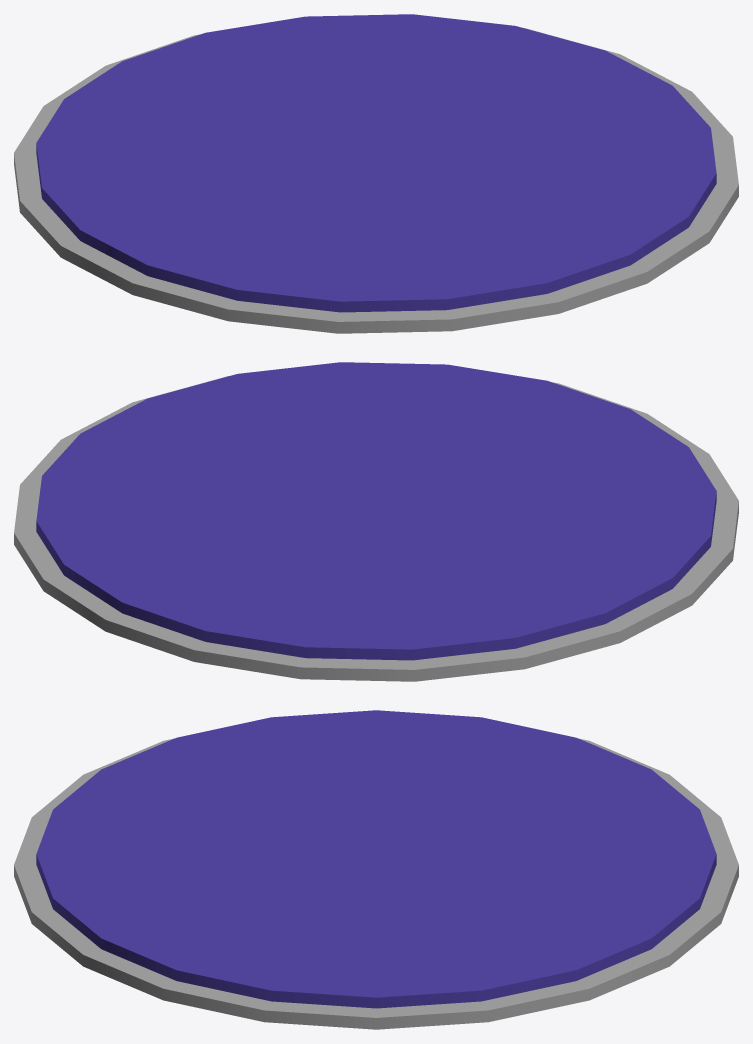
Rendered from diasthing.fbx.
3 views of the same model, one above another, from view 1: azimuth 30°, elevation 25°; view 2: azimuth 150°, elevation 25°; view 3: azimuth 270°, elevation 25° (orthographic).
Visible parts, largest first — view 1: pCylinder3, pCylinder2; view 2: pCylinder3, pCylinder2; view 3: pCylinder3, pCylinder2.
Boxes of the visible parts, x1,y1,x2,y2 form: pCylinder3: (36,14,716,312); pCylinder2: (14,28,738,333); pCylinder3: (36,362,716,660); pCylinder2: (14,376,738,681); pCylinder3: (36,710,716,1008); pCylinder2: (14,738,738,1029).
Bounding box in the file's own units: 1803 × 61.91 × 1803.
